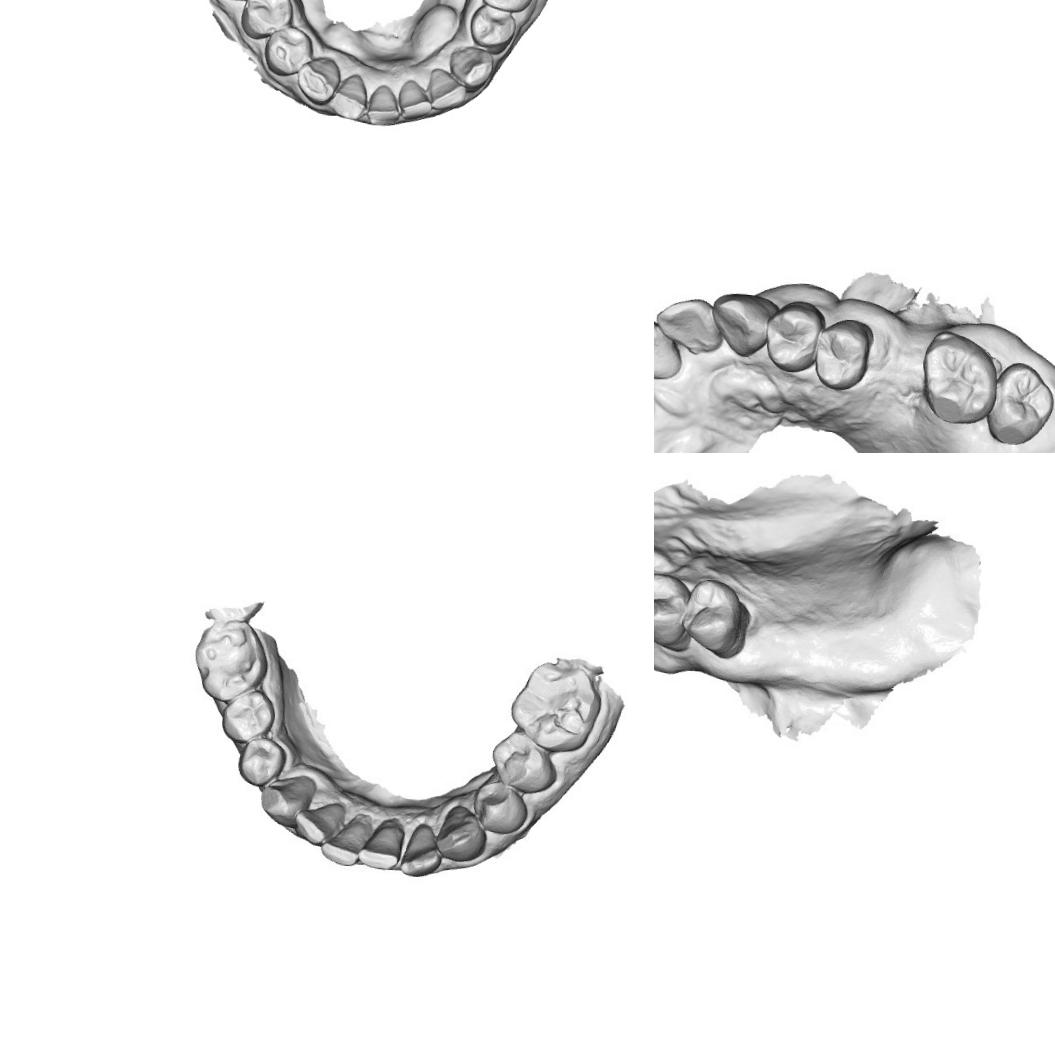canine: (710, 288, 770, 353), (434, 804, 490, 859), (261, 771, 314, 827), (294, 54, 342, 106), (446, 42, 494, 92)
incisor: (654, 296, 718, 355), (400, 824, 446, 875), (328, 70, 369, 121), (426, 66, 468, 112), (361, 822, 404, 866), (325, 818, 364, 863), (364, 82, 402, 128), (395, 78, 435, 120), (298, 800, 340, 840), (654, 317, 678, 380)
molar: (912, 327, 998, 427), (507, 658, 606, 744), (981, 359, 1055, 444), (192, 618, 268, 696)
premolar: (679, 574, 754, 660), (762, 295, 826, 375), (813, 310, 872, 395), (486, 735, 554, 792), (260, 22, 315, 78), (218, 688, 272, 742), (472, 780, 528, 832), (467, 0, 517, 56), (654, 567, 688, 648), (237, 0, 295, 42), (240, 733, 282, 783), (475, 0, 536, 14)
